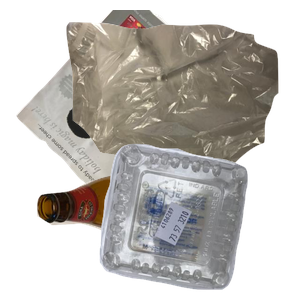glass: (34, 170, 223, 300)
paper: (14, 10, 229, 190)
plastic: (97, 141, 300, 300)
trash: (64, 20, 300, 200)
